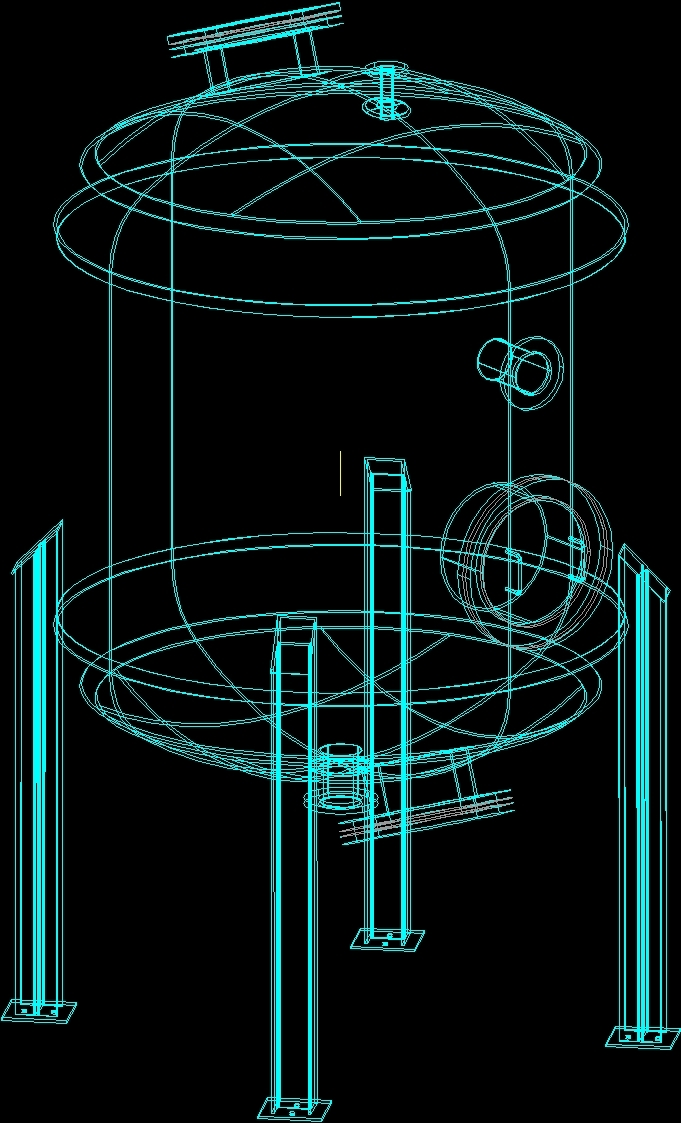nozzle: (333, 47, 437, 136), (479, 320, 569, 418)
